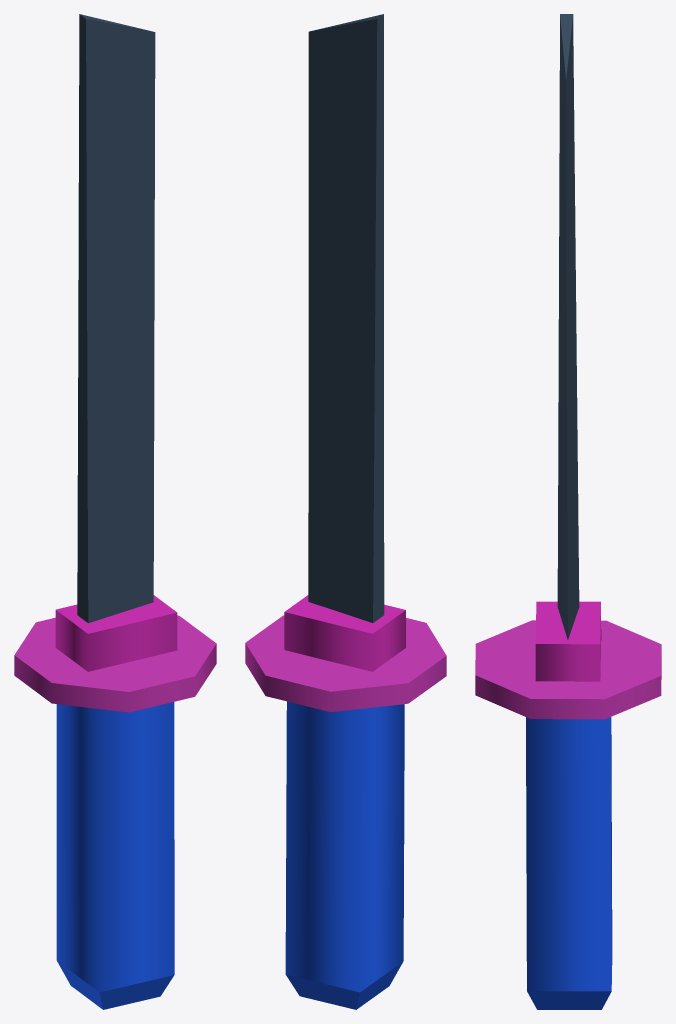
The model's file is Ninja_sword.fbx.
The picture shows the model from 3 angles, left to right: view 1: azimuth 30°, elevation 25°; view 2: azimuth 150°, elevation 25°; view 3: azimuth 270°, elevation 25°; orthographic projection.
Visible parts, largest first — view 1: Ninja_sword_01; view 2: Ninja_sword_01; view 3: Ninja_sword_01.
Boxes of the visible parts, left/top/right/bottom form: Ninja_sword_01: left=14, top=14, right=216, bottom=1009; Ninja_sword_01: left=245, top=14, right=446, bottom=1009; Ninja_sword_01: left=475, top=14, right=661, bottom=1009.
Size of the model in its own units: 16.43 by 93.89 by 16.43.
